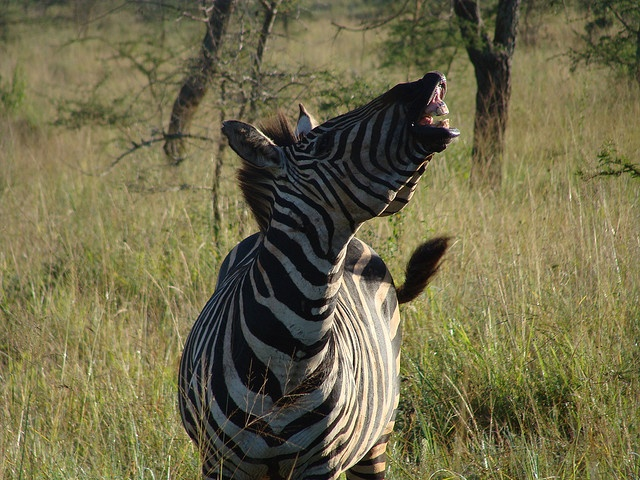zebra: (179, 70, 461, 480)
